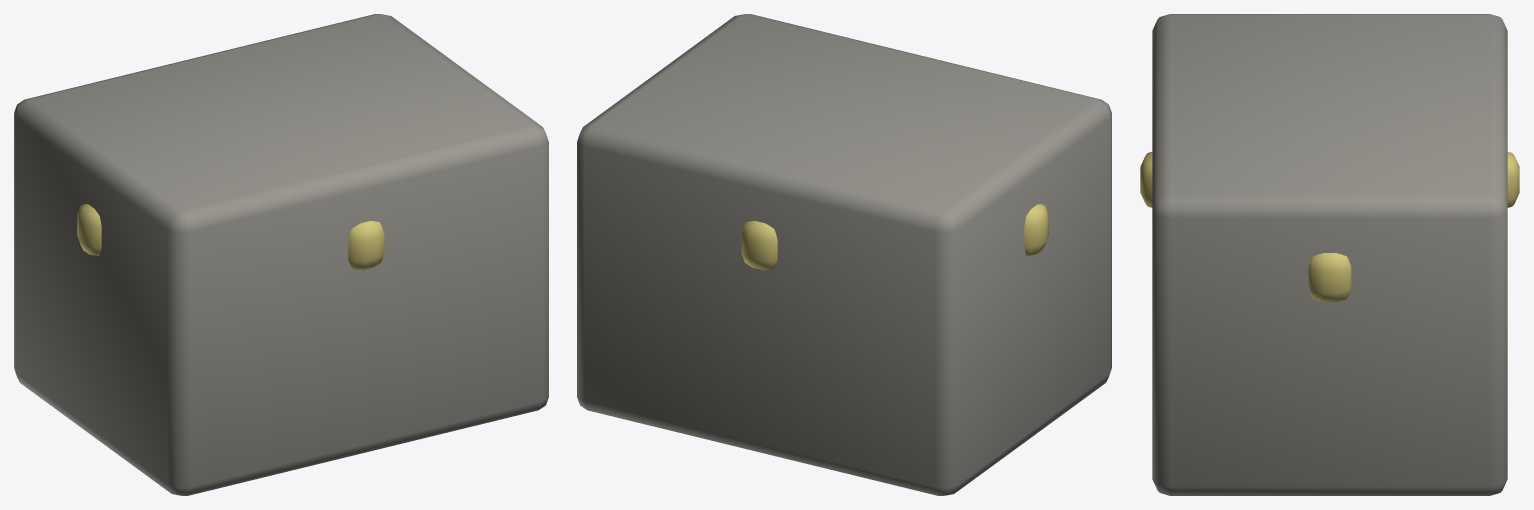
Rendered from crate.glb.
3 renders of one model, left to right at view 1: azimuth 30°, elevation 25°; view 2: azimuth 150°, elevation 25°; view 3: azimuth 270°, elevation 25°, orthographic. The views are drawn at different scales.
Visible parts, largest first — view 1: crate; view 2: crate; view 3: crate.
Boxes of the visible parts, bbox=[...] form: crate: bbox=[14, 14, 548, 495]; crate: bbox=[577, 14, 1111, 495]; crate: bbox=[1140, 14, 1519, 495].
Size of the model in its own units: 0.82 by 0.56 by 0.64.
